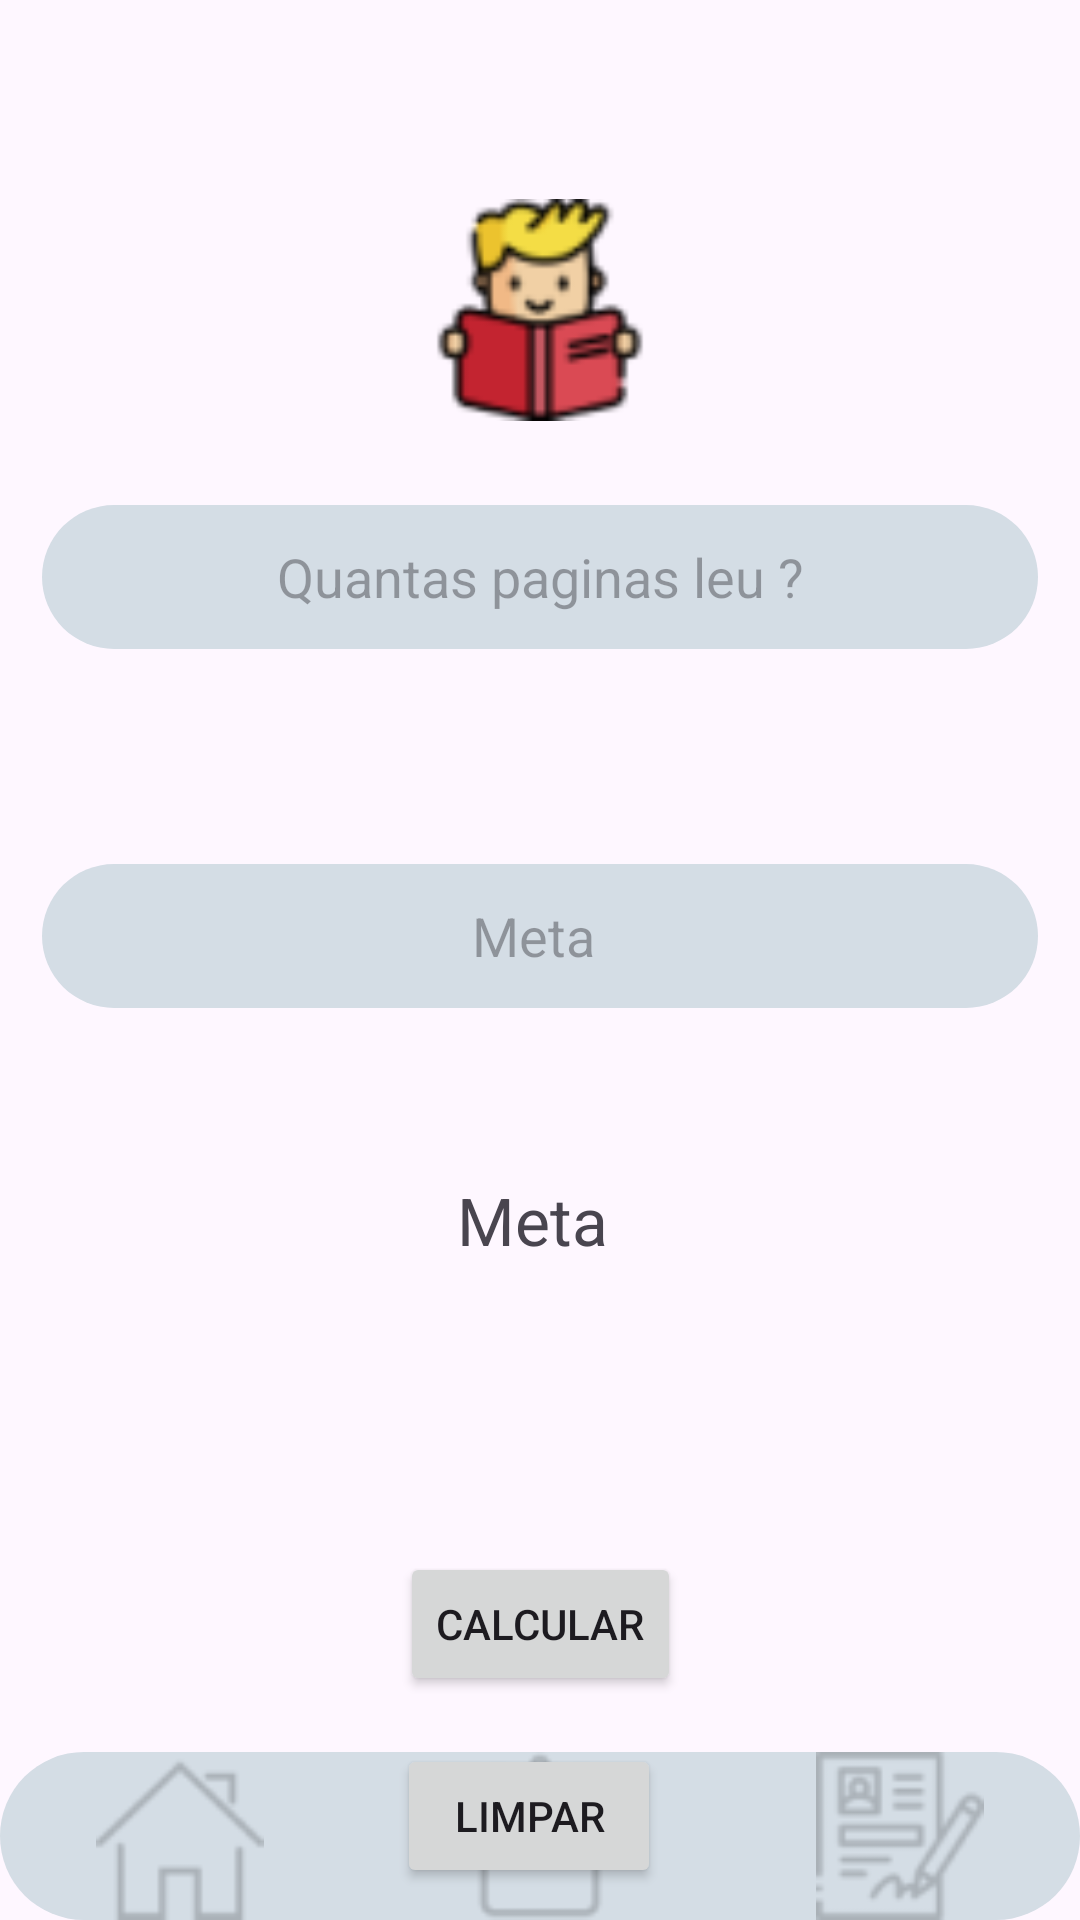

Where icons sit on this 1080 x 1920 app screen, as (x1,y1,x2,y2):
Início: (0,1752,360,1920)
Perfil: (720,1752,1080,1920)
read: (437,199,643,421)
